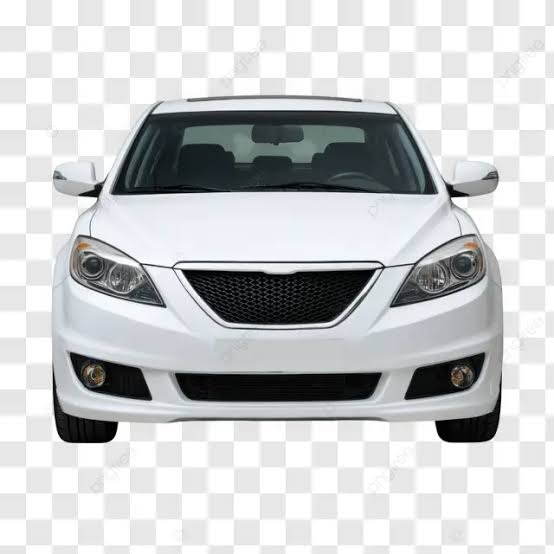car: (50, 92, 506, 404), (52, 87, 500, 400)
